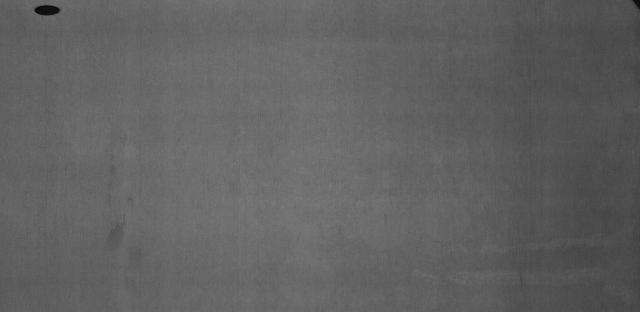oil_spot: (103, 212, 146, 279)
punching_hole: (32, 3, 61, 18)
